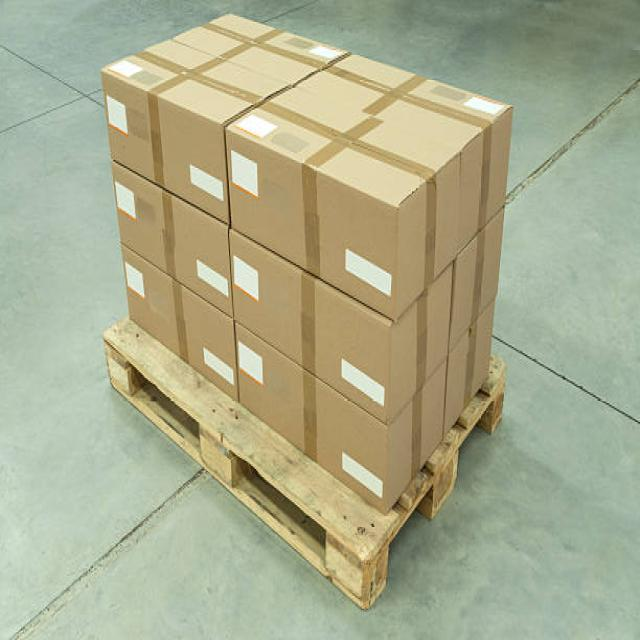Wooden-Pallets: (107, 315, 506, 613)
